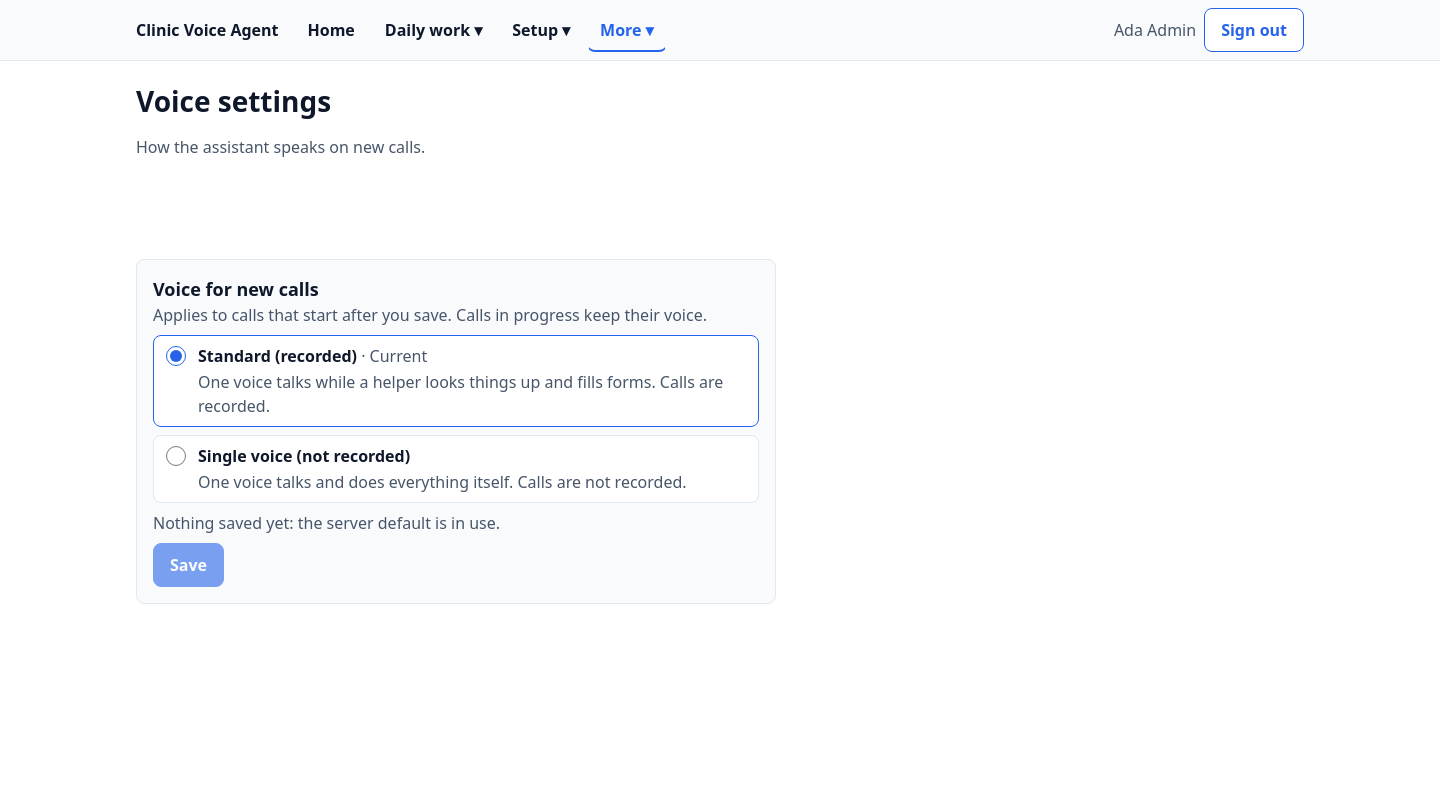
Test: T-FE: voice-mode settings › keeps the saved mode selected when saving fails
Click the radio button labelled "Single voice" at (176, 456), box left=166, top=446, right=186, bottom=466
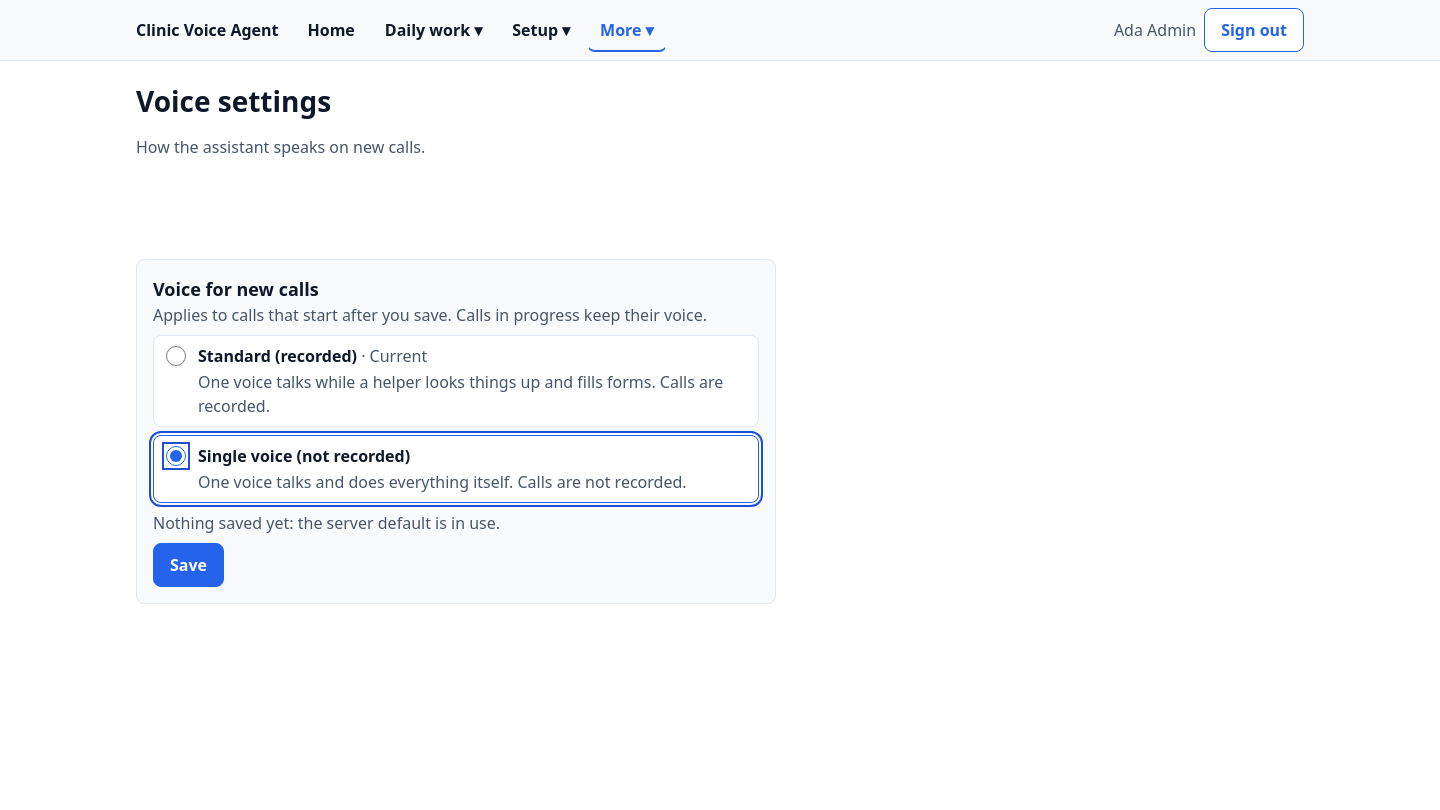
Click the button with test id "settings-save" at (188, 565), box left=153, top=543, right=224, bottom=587
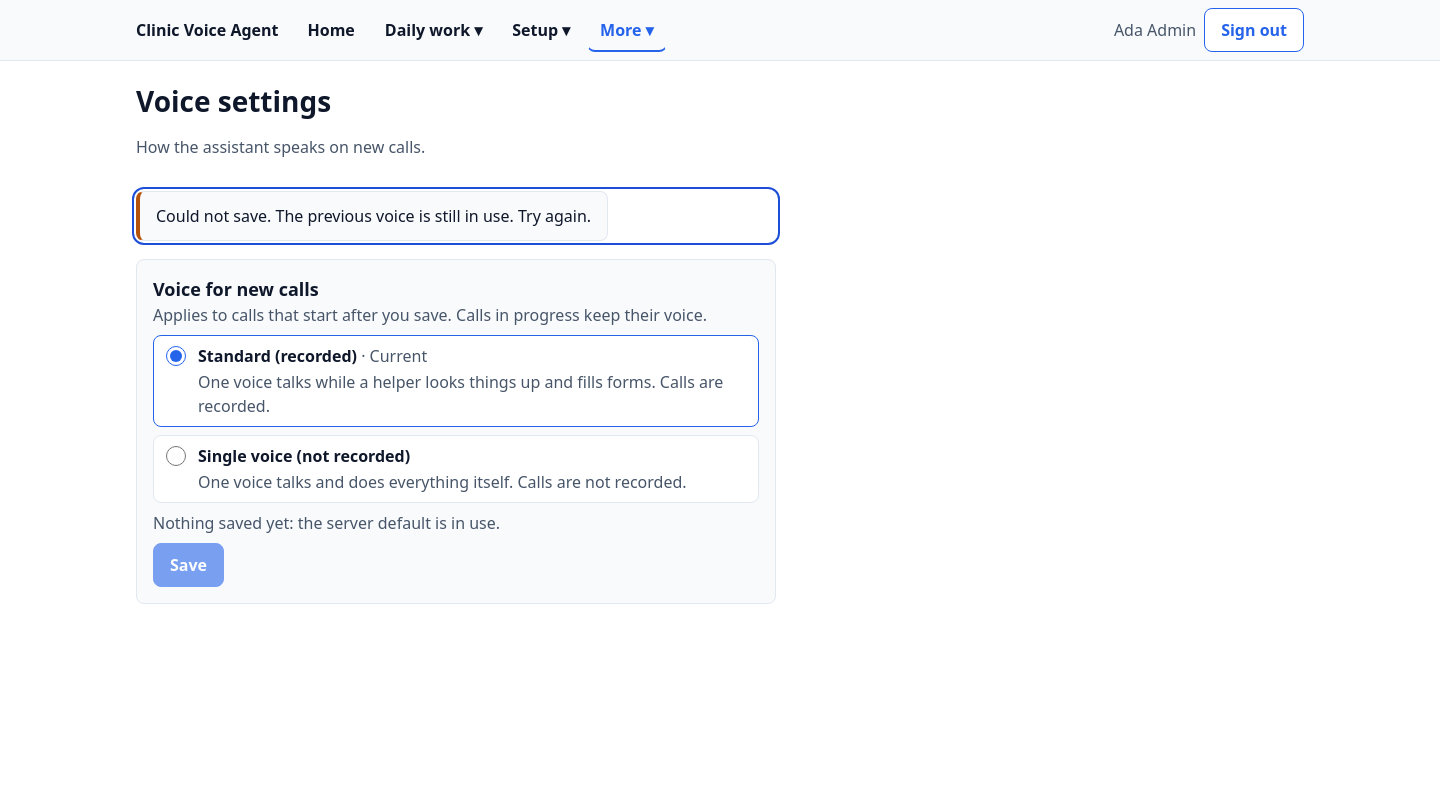
Now the 2nd radio button is not checked, box left=166, top=446, right=186, bottom=466
Now the message with test id "settings-result" shows "Could not save. The previous voice is still in use.", box left=156, top=205, right=591, bottom=227
